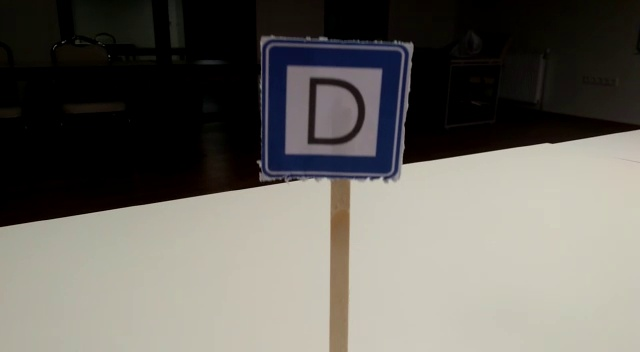durak: (261, 43, 410, 178)
